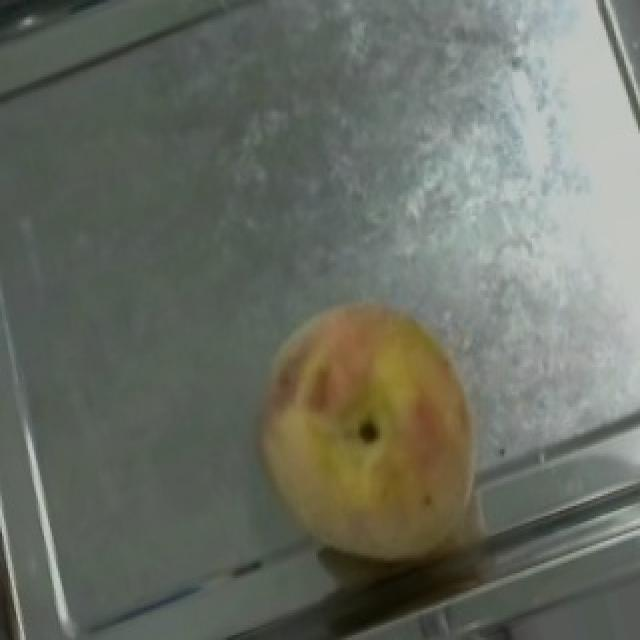Fruit: (214, 265, 528, 603)
